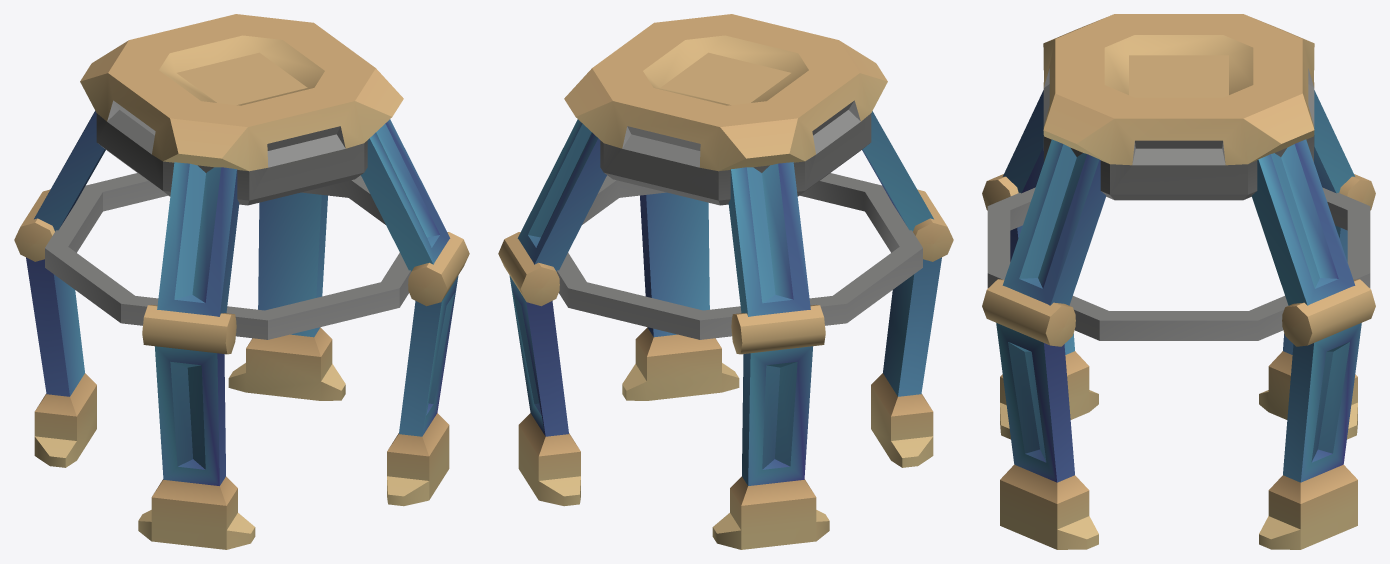
The model's file is command_spire.glb.
3 views of the same model, side by side, from view 1: azimuth 30°, elevation 25°; view 2: azimuth 150°, elevation 25°; view 3: azimuth 270°, elevation 25° (orthographic). The views are drawn at different scales.
Bounding box in the file's own units: 1.75 × 2 × 1.75.
